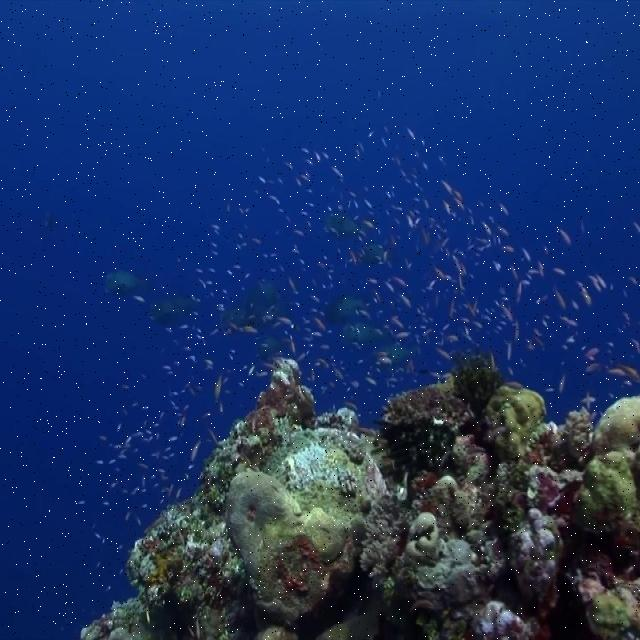sea-floor: (79, 355, 639, 639)
